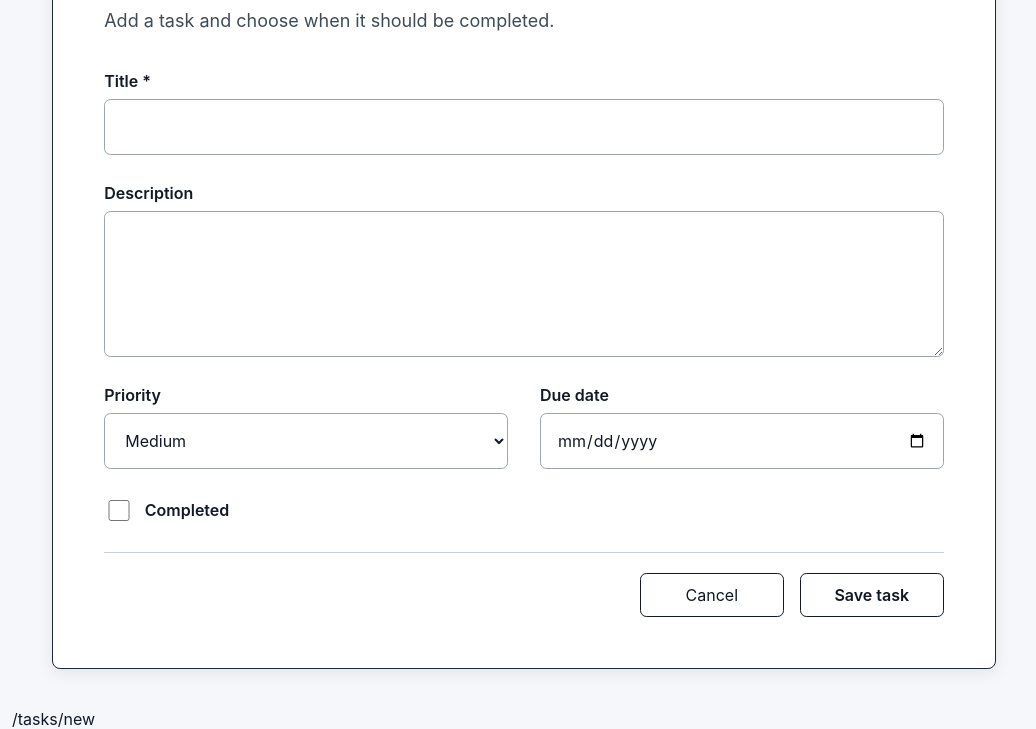
Test: task create flows › shows client validation without sending a create request
(page scrolled)
Click the button "Save task" at [872, 595], box [800,573,944,617]
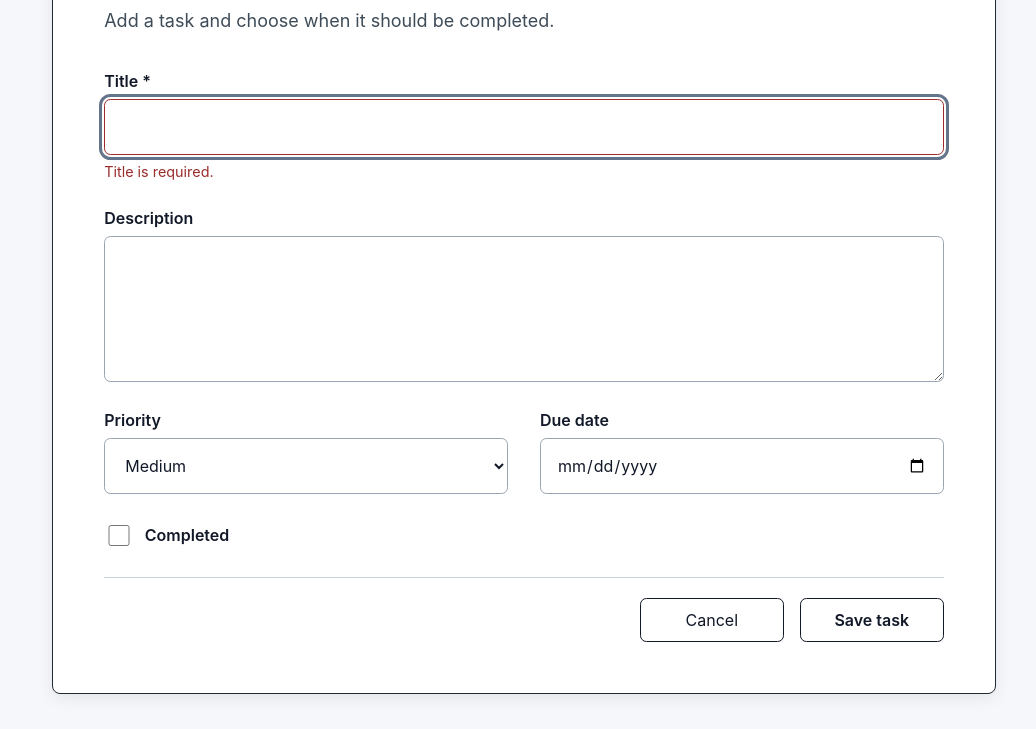
Expected: the text "Title is required." is shown, [104,163,214,180]
